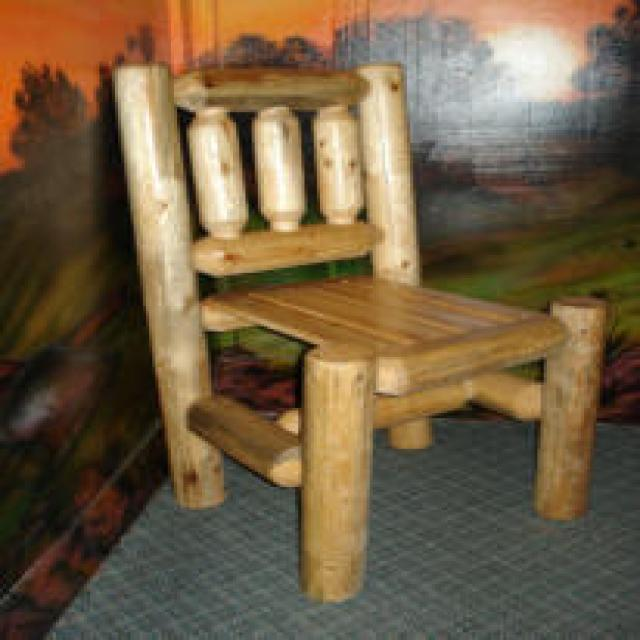chair: (109, 56, 609, 602)
